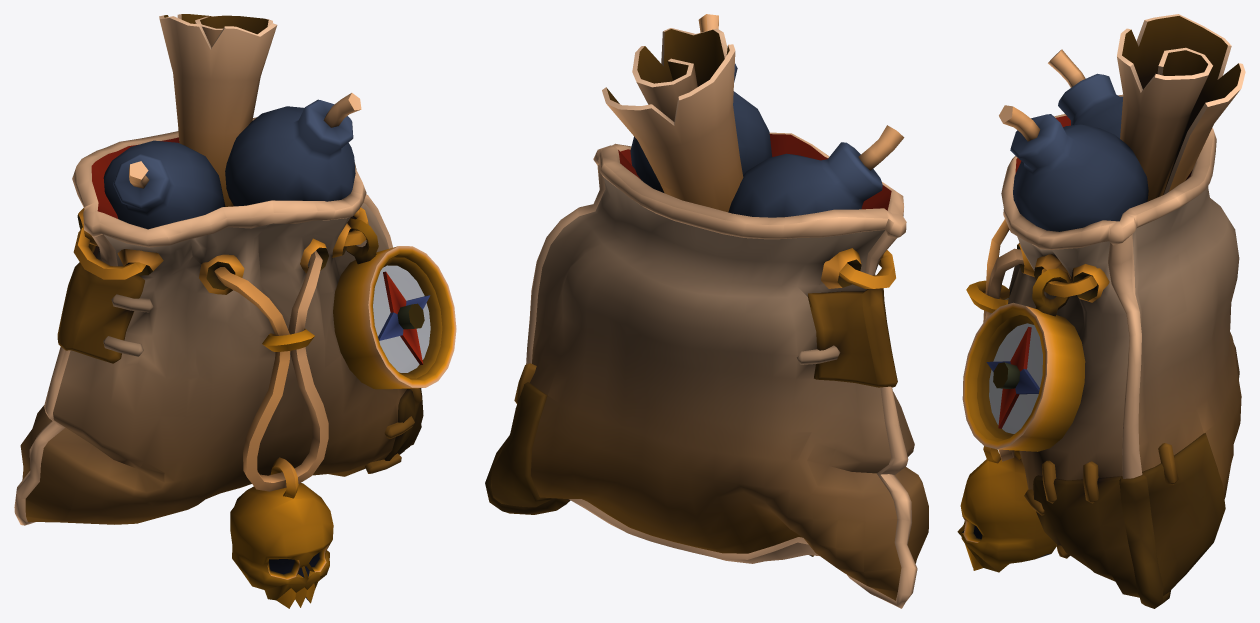
File: Back_Adventurer_Backpack.gltf
3 renders of one model, left to right at view 1: azimuth 30°, elevation 25°; view 2: azimuth 150°, elevation 25°; view 3: azimuth 270°, elevation 25°, orthographic. The views are drawn at different scales.
Visible parts, largest first — view 1: Back_Adventurer_Backpack; view 2: Back_Adventurer_Backpack; view 3: Back_Adventurer_Backpack.
Part boxes in pixels (box(x1,y1,x2,y2)): Back_Adventurer_Backpack: box(14, 14, 456, 608); Back_Adventurer_Backpack: box(485, 14, 928, 608); Back_Adventurer_Backpack: box(957, 14, 1245, 608).
Bounding box in the file's own units: 0.7929 × 1 × 0.4868.
2 materials, 2 textured.
